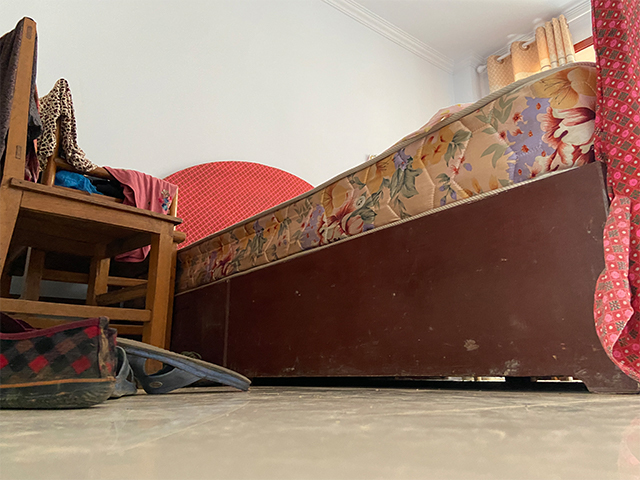bed: (164, 61, 639, 397)
slippers: (113, 337, 252, 399)
stool: (1, 18, 181, 378)
